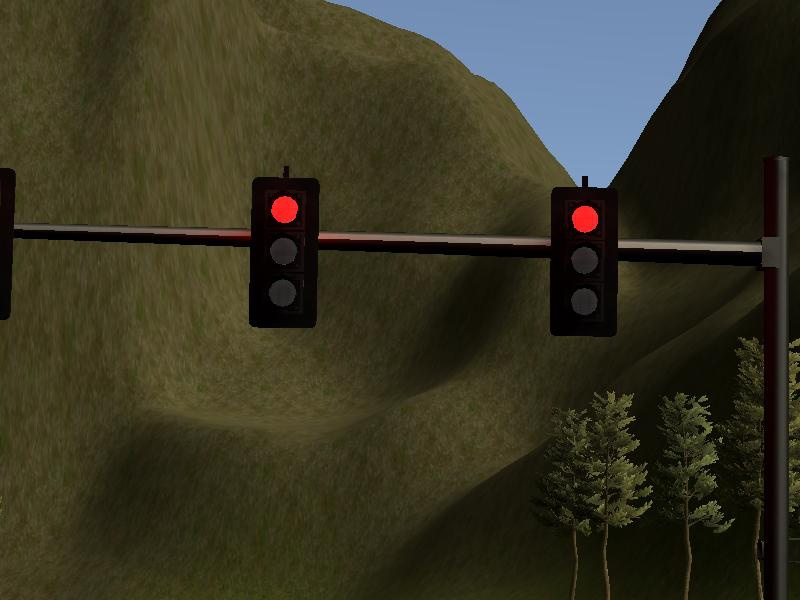Red: (246, 175, 324, 331), (547, 185, 624, 341)
